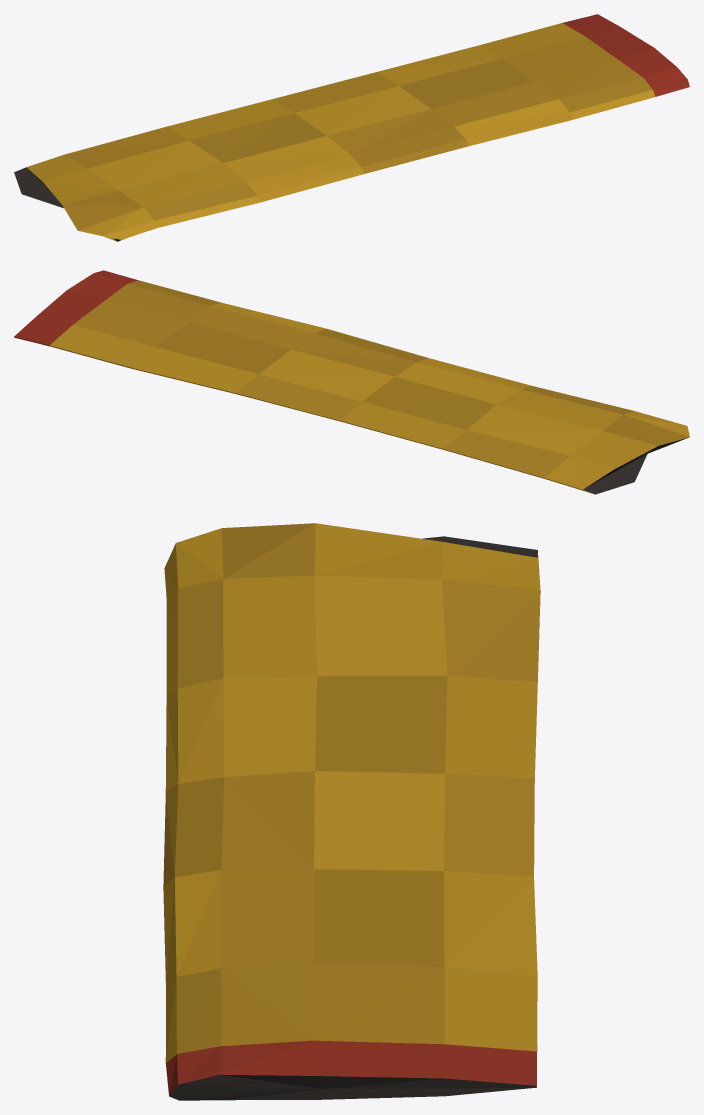
Rendered from plane-wing.glb.
3 views of the same model, one above another, from view 1: azimuth 30°, elevation 25°; view 2: azimuth 150°, elevation 25°; view 3: azimuth 270°, elevation 25° (orthographic). The views are drawn at different scales.
Parts seen in each view (by area): view 1: plane-wing; view 2: plane-wing; view 3: plane-wing.
Part boxes in pixels (bbox=[...]): plane-wing: bbox=[14, 14, 689, 241]; plane-wing: bbox=[14, 270, 689, 494]; plane-wing: bbox=[163, 523, 540, 1100].
Size of the model in its own units: 5.8 by 0.5054 by 1.58.
